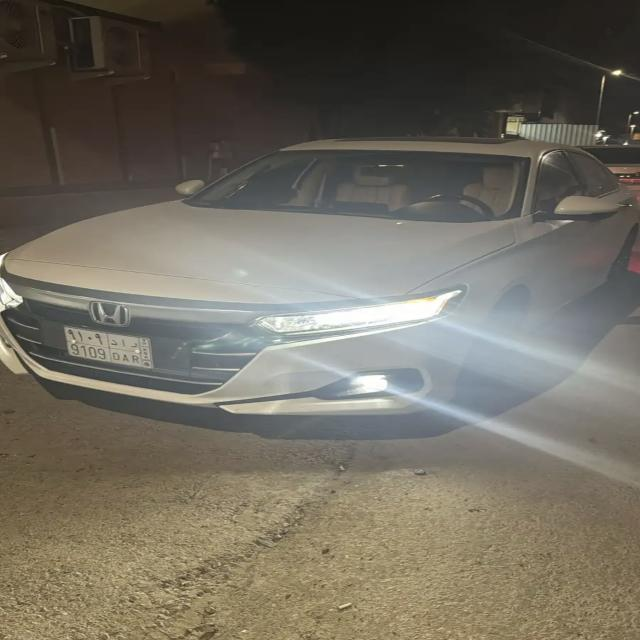license_plate: (62, 326, 156, 368)
